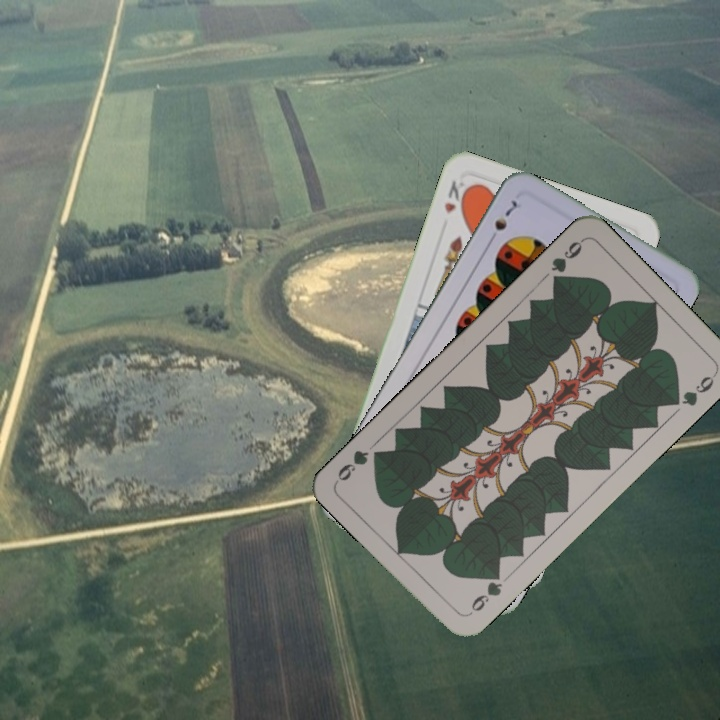G9: (547, 235, 587, 288), (465, 566, 505, 618)
HK: (440, 176, 472, 216)
S7: (484, 196, 520, 247)
